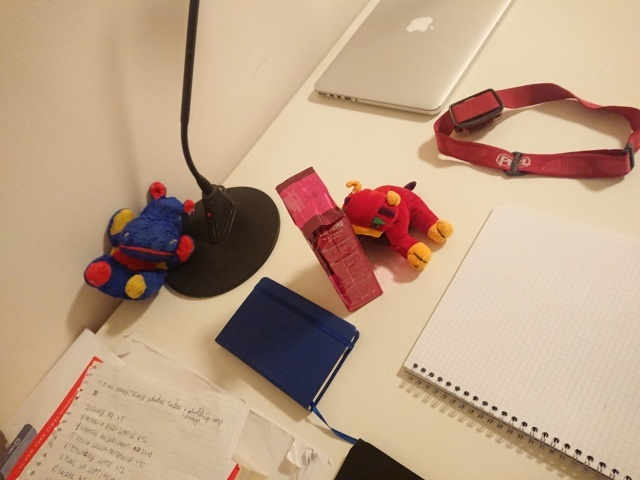Barcaffe Classic Original 225g: (273, 165, 404, 315)
